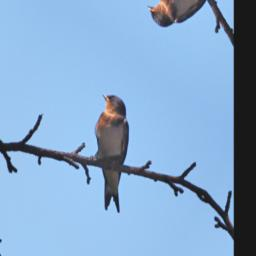Swallow: (61, 87, 161, 219)
